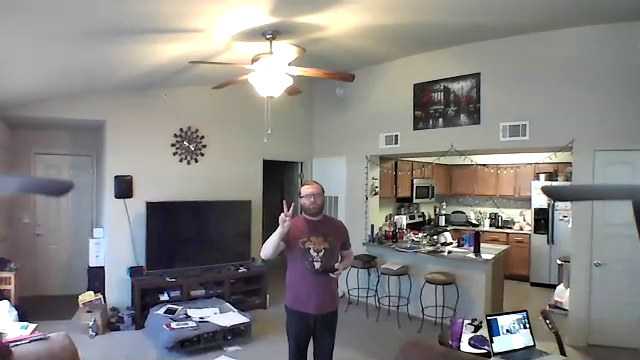peace: (274, 196, 297, 232)
